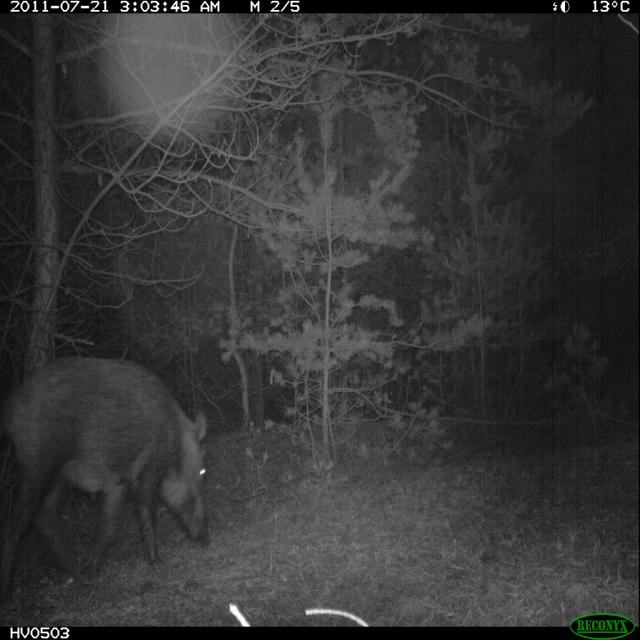boar: (0, 335, 233, 607)
